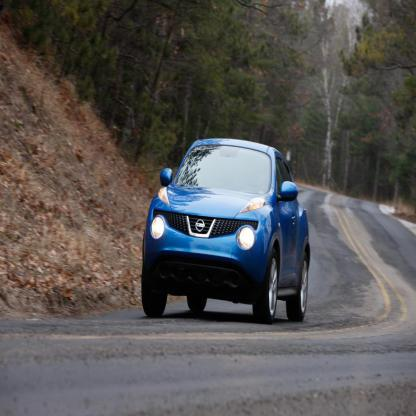Vehicle: (141, 138, 311, 326)
